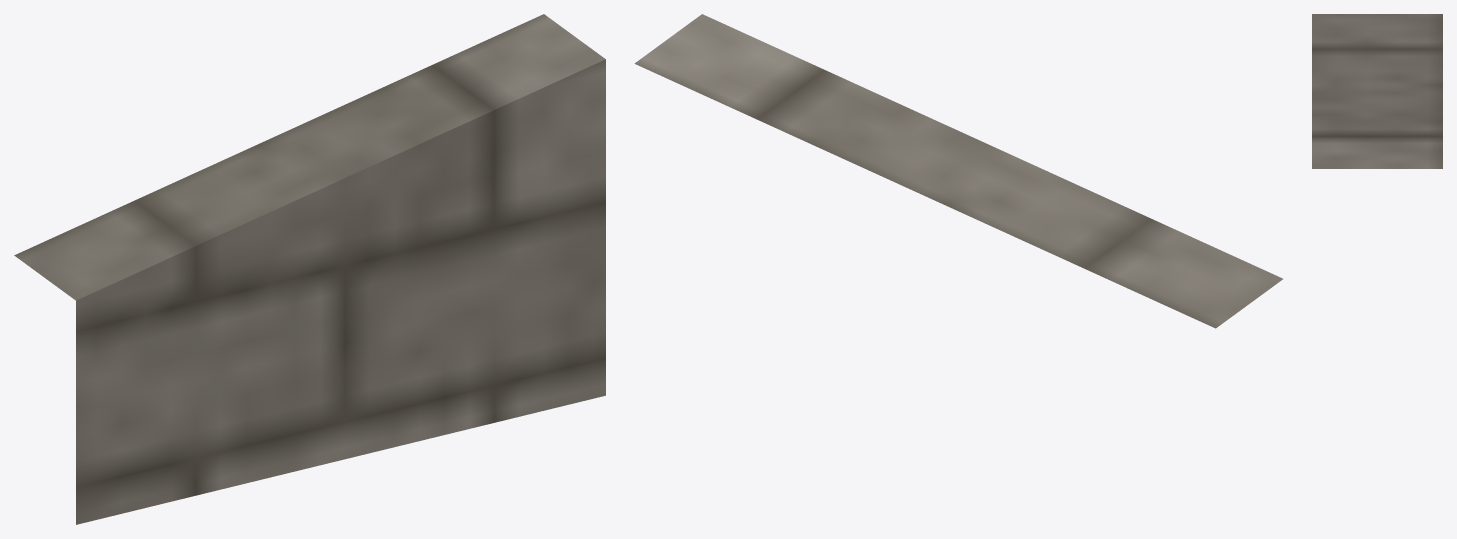
File: tunel_silnicni_zed_2_z.glb
3 views of the same model, side by side, from view 1: azimuth 30°, elevation 25°; view 2: azimuth 150°, elevation 25°; view 3: azimuth 270°, elevation 25° (orthographic). The views are drawn at different scales.
Parts seen in each view (by area): view 1: tunel_silnicni_zed_2_z; view 2: tunel_silnicni_zed_2_z; view 3: tunel_silnicni_zed_2_z.
Boxes of the visible parts, x1,y1,x2,y2 form: tunel_silnicni_zed_2_z: [14, 14, 605, 524]; tunel_silnicni_zed_2_z: [634, 14, 1282, 328]; tunel_silnicni_zed_2_z: [1312, 14, 1442, 168].
Bounding box in the file's own units: 4.95 × 3 × 1.
Materials: 1 (1 with a texture image).
